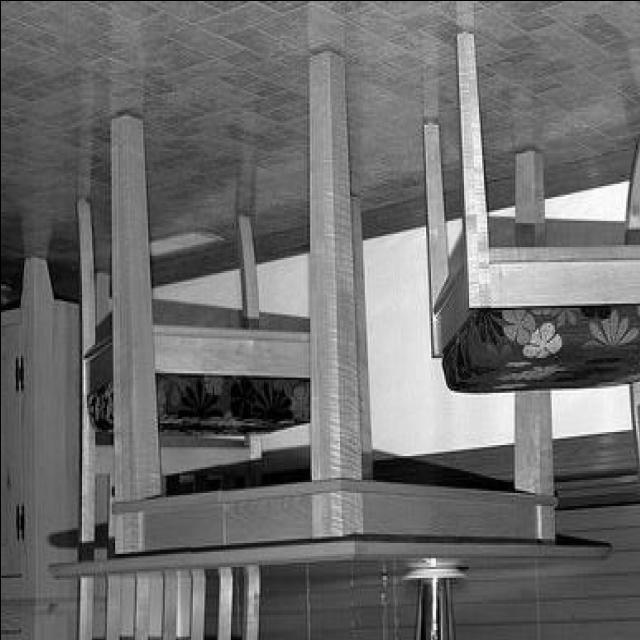chair: (74, 196, 332, 639)
table: (48, 52, 598, 596)
